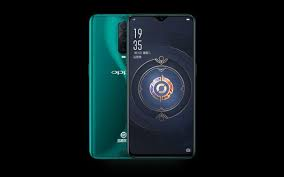oppo: (88, 8, 199, 161)
